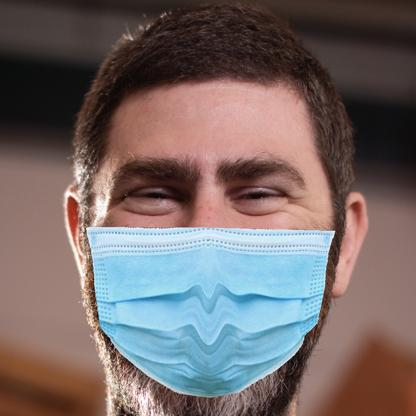mask: (84, 226, 339, 399)
